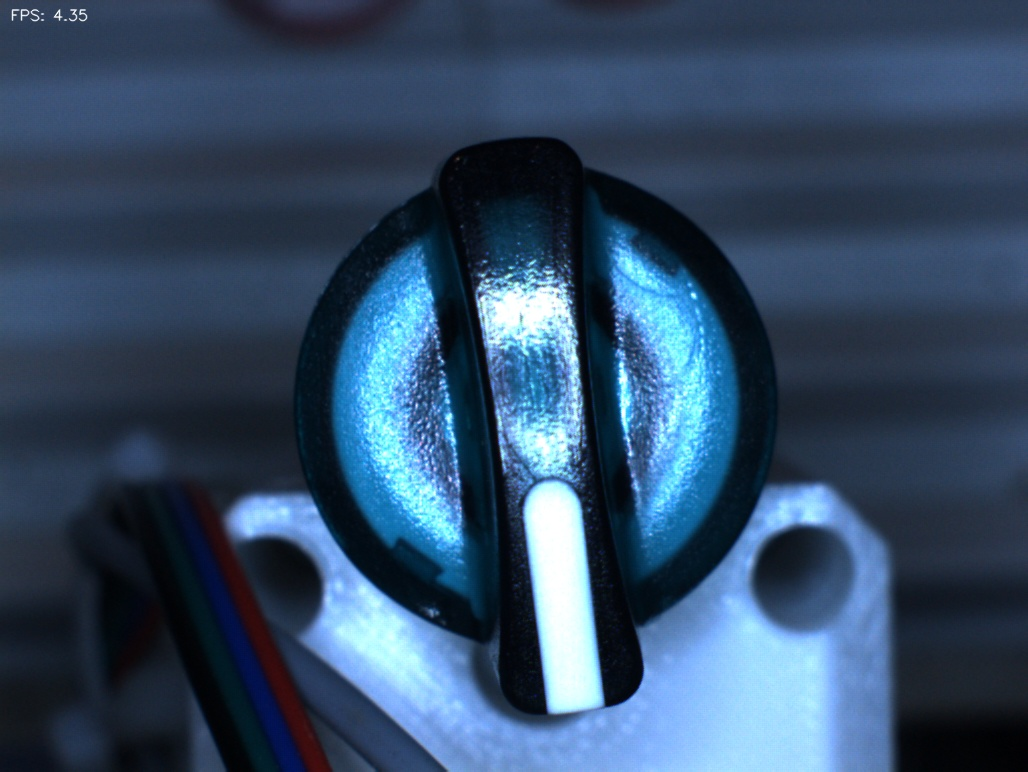Choc: (394, 581, 457, 644)
